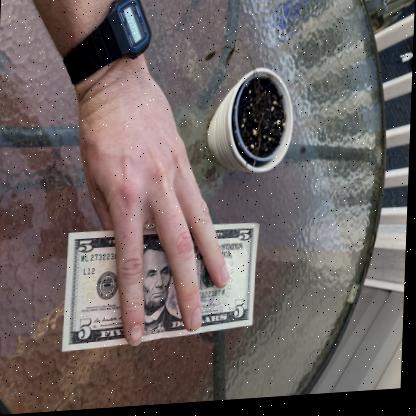five-front: (60, 220, 264, 355)
